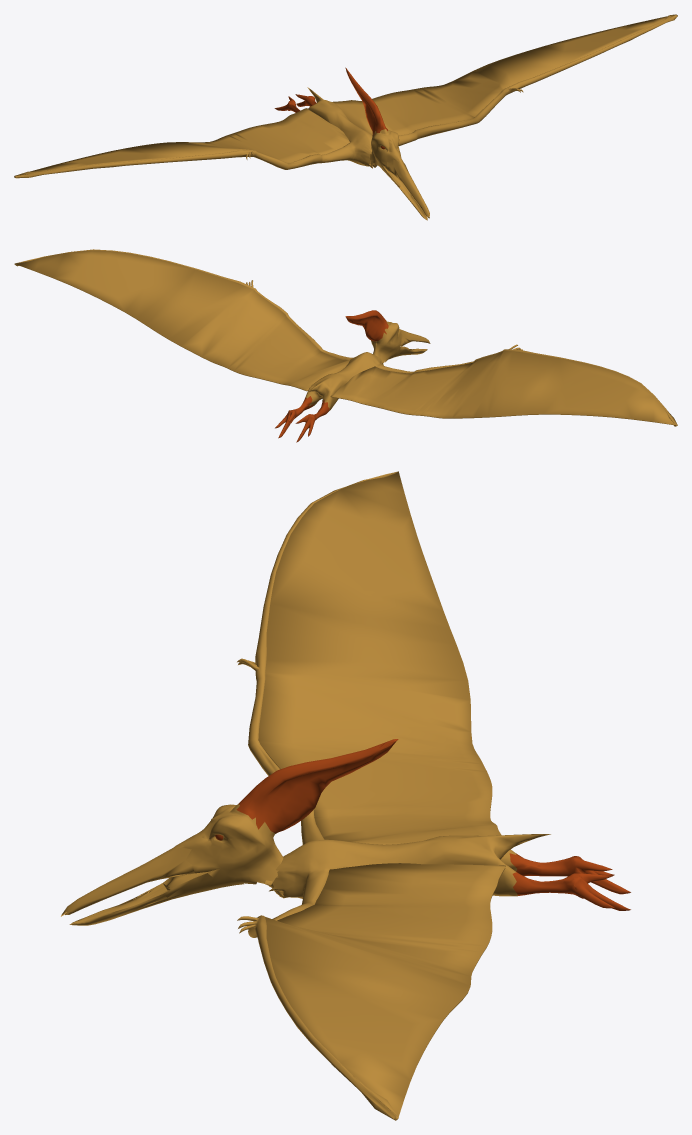
Rendered from dragon.obj.
The picture shows the model from 3 angles, top to bottom: view 1: azimuth 30°, elevation 25°; view 2: azimuth 150°, elevation 25°; view 3: azimuth 270°, elevation 25°; orthographic projection. The views are drawn at different scales.
Visible parts, largest first — view 1: pter_body, object 6, head, shabi, object 7; view 2: pter_body, head, object 7, shabi, object 6; view 3: pter_body, head, shabi, object 6, object 7.
Part boxes in pixels (box(x1,y1,x2,y2)): pter_body: box(14, 14, 677, 178); object 6: box(383, 155, 429, 220); head: box(370, 129, 404, 178); shabi: box(345, 67, 387, 135); object 7: box(274, 94, 316, 112); pter_body: box(14, 249, 677, 426); head: box(371, 320, 404, 363); object 7: box(275, 396, 329, 442); shabi: box(345, 310, 388, 341); object 6: box(394, 330, 430, 357); pter_body: box(237, 471, 550, 1120); head: box(177, 804, 283, 887); shabi: box(236, 739, 398, 833); object 6: box(61, 838, 221, 925); object 7: box(509, 853, 630, 910).
Bounding box in the file's own units: 7.34 × 0.988 × 2.73.
2 materials, 2 textured.
